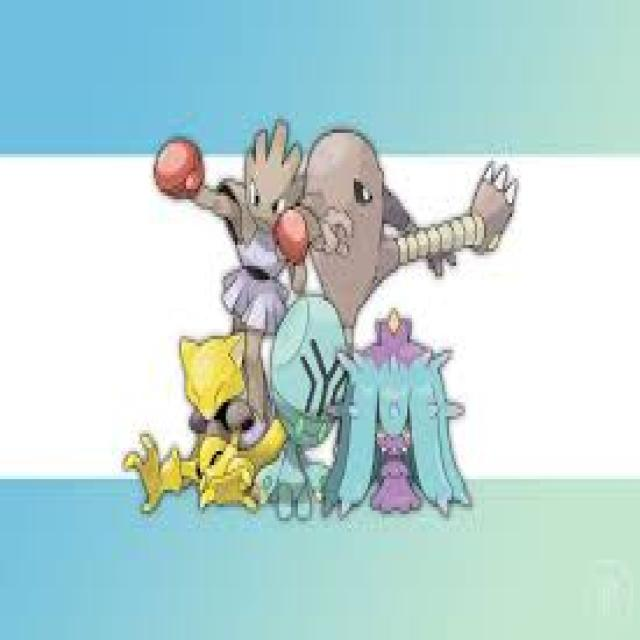Abra: (171, 328, 258, 496)
Hitmonchan: (214, 122, 308, 334)
Hitmonlee: (304, 129, 424, 314)
